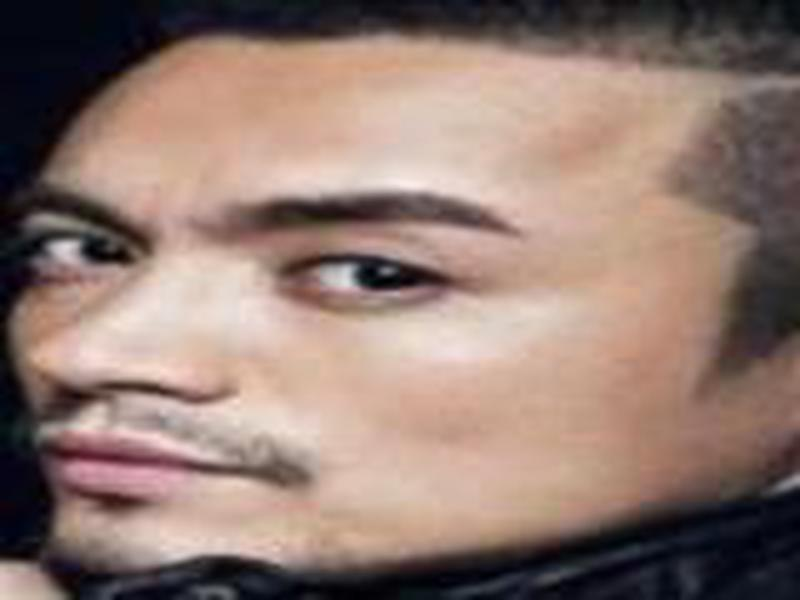without_mask: (10, 34, 763, 580)
